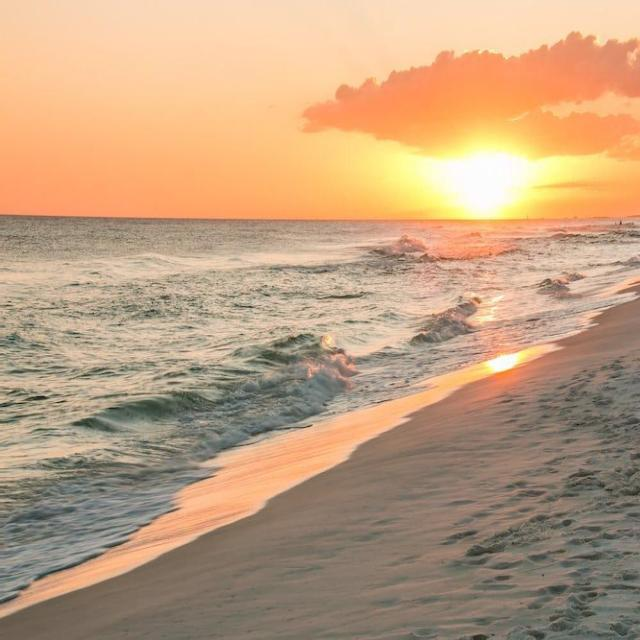other: (386, 122, 554, 220)
